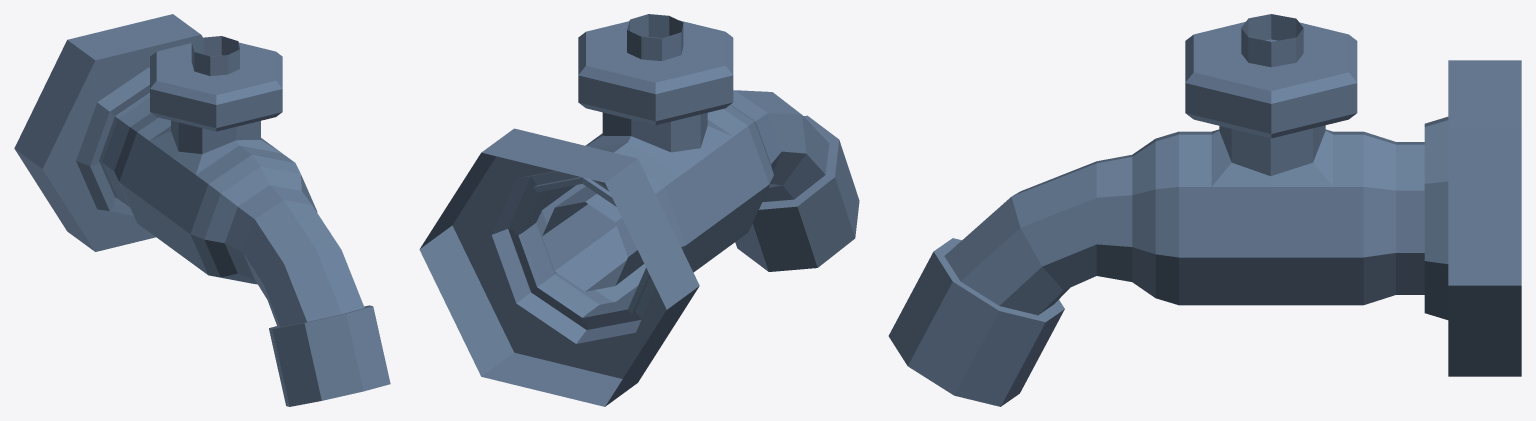
File: pipe.obj
3 renders of one model, left to right at view 1: azimuth 30°, elevation 25°; view 2: azimuth 150°, elevation 25°; view 3: azimuth 270°, elevation 25°, orthographic. The views are drawn at different scales.
Parts seen in each view (by area): view 1: faucet; view 2: faucet; view 3: faucet.
Boxes of the visible parts, x1,y1,x2,y2 form: faucet: [14, 14, 390, 406]; faucet: [419, 14, 859, 406]; faucet: [888, 14, 1521, 406].
Size of the model in its own units: 3.43 by 4.37 by 6.85.
